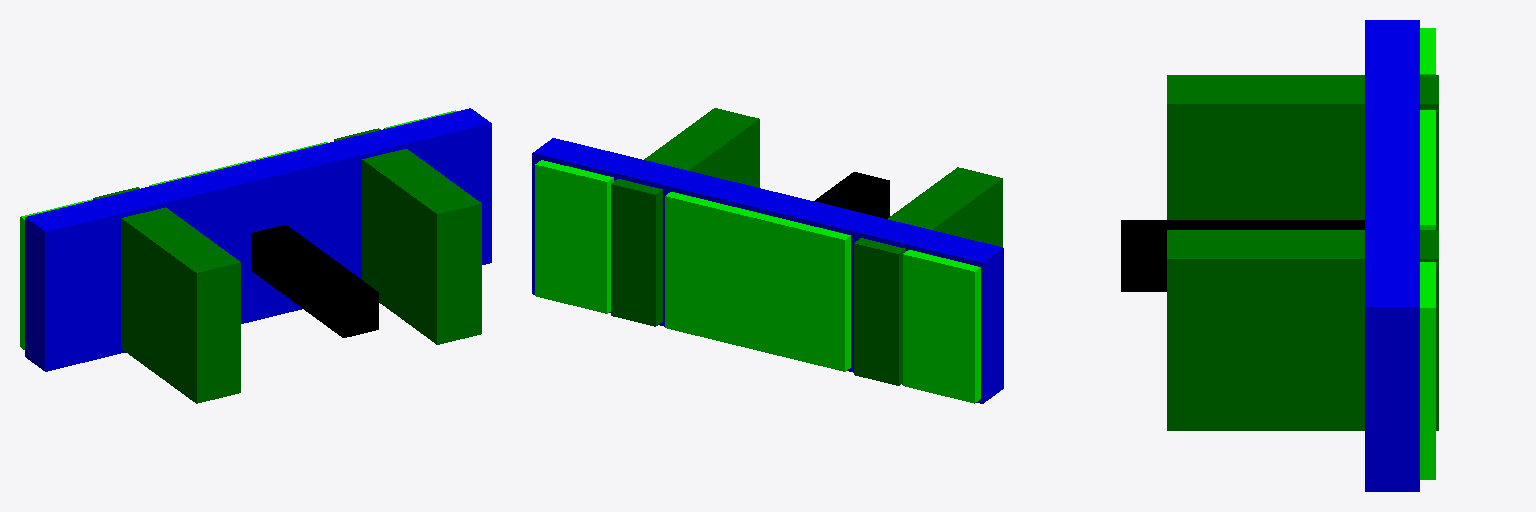
The robot description file, URDF, robot "ur5_robotiq_140":
<?xml version="1.0" ?>
<!-- =================================================================================== -->
<!-- |    This document was autogenerated by xacro from sisbot.xacro                   | -->
<!-- |    EDITING THIS FILE BY HAND IS NOT RECOMMENDED                                 | -->
<!-- =================================================================================== -->
<robot name="ur5_robotiq_140" xmlns:xacro="http://ros.org/wiki/xacro">
  <!--################################################
  ########              arm                    #######
  ####################################################-->

  <link name="base_link">
    <visual>
      <geometry>
        <mesh filename="../meshes/ur5/visual/base.obj"/>
      </geometry>
      <material name="LightGrey">
        <color rgba="0.7 0.7 0.7 1.0"/>
      </material>
    </visual>
    <collision>
      <geometry>
        <mesh filename="../meshes/ur5/collision/base.stl"/>
      </geometry>
    </collision>
    <inertial>
      <mass value="4.0"/>
      <origin rpy="0 0 0" xyz="0.0 0.0 0.0"/>
      <inertia ixx="0.00443333156" ixy="0.0" ixz="0.0" iyy="0.00443333156" iyz="0.0" izz="0.0072"/>
    </inertial>
  </link>

  <joint name="shoulder_pan_joint" type="revolute">
    <parent link="base_link"/>
    <child link="shoulder_link"/>
    <origin rpy="0.0 0.0 0.0" xyz="0.0 0.0 0.089159"/>
    <axis xyz="0 0 1"/>
    <limit effort="150.0" lower="-3.14159265359" upper="3.14159265359" velocity="3.15"/>
    <dynamics damping="0.0" friction="0.0"/>
  </joint>
  <link name="shoulder_link">
    <visual>
      <geometry>
        <mesh filename="../meshes/ur5/visual/shoulder.obj"/>
      </geometry>
      <material name="DarkGray">
        <color rgba="0.5 0.5 0.5 1.0"/>
      </material>
    </visual>
    <collision>
      <geometry>
        <mesh filename="../meshes/ur5/collision/shoulder.stl"/>
      </geometry>
    </collision>
    <inertial>
      <mass value="3.7"/>
      <origin rpy="0 0 0" xyz="0.0 0.0 0.0"/>
      <inertia ixx="0.010267495893" ixy="0.0" ixz="0.0" iyy="0.010267495893" iyz="0.0" izz="0.00666"/>
    </inertial>
  </link>
  <joint name="shoulder_lift_joint" type="revolute">
    <parent link="shoulder_link"/>
    <child link="upper_arm_link"/>
    <origin rpy="0.0 1.57079632679 0.0" xyz="0.0 0.13585 0.0"/>
    <axis xyz="0 1 0"/>
    <limit effort="150.0" lower="-3.14159265359" upper="3.14159265359" velocity="3.15"/>
    <dynamics damping="0.0" friction="0.0"/>
  </joint>
  <link name="upper_arm_link">
    <visual>
      <geometry>
        <mesh filename="../meshes/ur5/visual/upperarm.obj"/>
      </geometry>
      <material name="LightGrey">
        <color rgba="0.7 0.7 0.7 1.0"/>
      </material>
    </visual>
    <collision>
      <geometry>
        <mesh filename="../meshes/ur5/collision/upperarm.stl"/>
      </geometry>
    </collision>
    <inertial>
      <mass value="8.393"/>
      <origin rpy="0 0 0" xyz="0.0 0.0 0.28"/>
      <inertia ixx="0.22689067591" ixy="0.0" ixz="0.0" iyy="0.22689067591" iyz="0.0" izz="0.0151074"/>
    </inertial>
  </link>
  <joint name="elbow_joint" type="revolute">
    <parent link="upper_arm_link"/>
    <child link="forearm_link"/>
    <origin rpy="0.0 0.0 0.0" xyz="0.0 -0.1197 0.425"/>
    <axis xyz="0 1 0"/>
    <limit effort="150.0" lower="-3.14159265359" upper="3.14159265359" velocity="3.15"/>
    <dynamics damping="0.0" friction="0.0"/>
  </joint>
  <link name="forearm_link">
    <visual>
      <geometry>
        <mesh filename="../meshes/ur5/visual/forearm.obj"/>
      </geometry>
      <material name="LightGrey">
        <color rgba="0.7 0.7 0.7 1.0"/>
      </material>
    </visual>
    <collision>
      <geometry>
        <mesh filename="../meshes/ur5/collision/forearm.stl"/>
      </geometry>
    </collision>
    <inertial>
      <mass value="2.275"/>
      <origin rpy="0 0 0" xyz="0.0 0.0 0.25"/>
      <inertia ixx="0.049443313556" ixy="0.0" ixz="0.0" iyy="0.049443313556" iyz="0.0" izz="0.004095"/>
    </inertial>
  </link>
  <joint name="wrist_1_joint" type="revolute">
    <parent link="forearm_link"/>
    <child link="wrist_1_link"/>
    <origin rpy="0.0 1.57079632679 0.0" xyz="0.0 0.0 0.39225"/>
    <axis xyz="0 1 0"/>
    <limit effort="28.0" lower="-3.14159265359" upper="3.14159265359" velocity="3.2"/>
    <dynamics damping="0.0" friction="0.0"/>
  </joint>
  <link name="wrist_1_link">
    <visual>
      <geometry>
        <mesh filename="../meshes/ur5/visual/wrist1.obj"/>
      </geometry>
      <material name="DarkGray">
        <color rgba="0.5 0.5 0.5 1.0"/>
      </material>
    </visual>
    <collision>
      <geometry>
        <mesh filename="../meshes/ur5/collision/wrist1.stl"/>
      </geometry>
    </collision>
    <inertial>
      <mass value="1.219"/>
      <origin rpy="0 0 0" xyz="0.0 0.0 0.0"/>
      <inertia ixx="0.111172755531" ixy="0.0" ixz="0.0" iyy="0.111172755531" iyz="0.0" izz="0.21942"/>
    </inertial>
  </link>
  <joint name="wrist_2_joint" type="revolute">
    <parent link="wrist_1_link"/>
    <child link="wrist_2_link"/>
    <origin rpy="0.0 0.0 0.0" xyz="0.0 0.093 0.0"/>
    <axis xyz="0 0 1"/>
    <limit effort="28.0" lower="-3.14159265359" upper="3.14159265359" velocity="3.2"/>
    <dynamics damping="0.0" friction="0.0"/>
  </joint>
  <link name="wrist_2_link">
    <visual>
      <geometry>
        <mesh filename="../meshes/ur5/visual/wrist2.obj"/>
      </geometry>
      <material name="DarkGray">
        <color rgba="0.5 0.5 0.5 1.0"/>
      </material>
    </visual>
    <collision>
      <geometry>
        <mesh filename="../meshes/ur5/collision/wrist2.stl"/>
      </geometry>
    </collision>
    <inertial>
      <mass value="1.219"/>
      <origin rpy="0 0 0" xyz="0.0 0.0 0.0"/>
      <inertia ixx="0.111172755531" ixy="0.0" ixz="0.0" iyy="0.111172755531" iyz="0.0" izz="0.21942"/>
    </inertial>
  </link>
  <joint name="wrist_3_joint" type="revolute">
    <parent link="wrist_2_link"/>
    <child link="wrist_3_link"/>
    <origin rpy="0.0 0.0 0.0" xyz="0.0 0.0 0.09465"/>
    <axis xyz="0 1 0"/>
    <limit effort="28.0" lower="-3.14159265359" upper="3.14159265359" velocity="3.2"/>
    <dynamics damping="0.0" friction="0.0"/>
  </joint>
  <link name="wrist_3_link">
    <visual>
      <geometry>
        <mesh filename="../meshes/ur5/visual/wrist3.obj"/>
      </geometry>
      <material name="LightGrey">
        <color rgba="0.7 0.7 0.7 1.0"/>
      </material>
    </visual>
    <collision>
      <geometry>
        <mesh filename="../meshes/ur5/collision/wrist3.stl"/>
      </geometry>
    </collision>
    <inertial>
      <mass value="0.1879"/>
      <origin rpy="0 0 0" xyz="0.0 0.0 0.0"/>
      <inertia ixx="0.0171364731454" ixy="0.0" ixz="0.0" iyy="0.0171364731454" iyz="0.0" izz="0.033822"/>
    </inertial>
  </link>
  <joint name="ee_fixed_joint" type="fixed">
    <parent link="wrist_3_link"/>
    <child link="ee_link"/>
    <origin rpy="0.0 0.0 1.57079632679" xyz="0.0 0.0823 0.0"/>
  </joint>
  <link name="ee_link">
    <collision>
      <geometry>
        <box size="0.01 0.01 0.01"/>
      </geometry>
      <origin rpy="0 0 0" xyz="-0.01 0 0"/>
    </collision>
  </link>

 <joint name="suction_gripper_base" type="fixed">
    <!-- <origin rpy="0 0 3.14159265359" xyz="0 0 0.007"/> -->
    <origin rpy="0 0 0" xyz="0.0 0 0.0"/>    
    <parent link="ee_link"/>
    <child link="gripper_base"/>
  </joint>
  <link name="gripper_base">
    <inertial>
      <origin rpy="0 0 0" xyz="0 0 0"/>
      <mass value="0.1"/>
      <inertia ixx="0.0001" ixy="0" ixz="0" iyy="0.0001" iyz="0" izz="0.0001"/>
    </inertial>
    <visual>
      <origin xyz="0 0 0"/>
      <geometry>
        <box size="0.1 0.02 0.02" />
      </geometry>
      <material name="black">
        <color rgba="0 0 0 1.0"/>
      </material>
    </visual>
    <collision>
      <origin xyz="0 0 0"/>
      <geometry>
        <box size="0.1 0.02 0.02" />
      </geometry>
    </collision>
  </link>
<joint name="suction_gripper_surf" type="fixed">
    <!-- <origin rpy="0 0 3.14159265359" xyz="0 0 0.007"/> -->
    <origin rpy="0 0 0" xyz="0.05 0.0 0.0"/>    
    <parent link="gripper_base"/>
    <child link="gripper_surf"/>
  </joint>
  <link name="gripper_surf">
    <inertial>
      <origin rpy="0 0 0" xyz="0 0 0"/>
      <mass value="0.1"/>
      <inertia ixx="0.0001" ixy="0" ixz="0" iyy="0.0001" iyz="0" izz="0.0001"/>
    </inertial>
    <visual>
      <origin xyz="0 0 0"/>
      <geometry>
        <box size="0.02 0.25 0.075" />
      </geometry>
      <material name="blue">
        <color rgba="0 0 1 1.0"/>
      </material>
    </visual>
    <collision>
      <origin xyz="0 0 0"/>
      <geometry>
        <box size="0.02 0.25 0.075" />
      </geometry>
    </collision>
  </link>

<joint name="suction_gripper_tile1" type="fixed">
    <!-- <origin rpy="0 0 3.14159265359" xyz="0 0 0.007"/> -->
    <origin rpy="0 0 0" xyz="0.011 0.1 0.0"/>    
    <parent link="gripper_surf"/>
    <child link="gripper_tile1"/>
  </joint>
  <link name="gripper_tile1">
    <inertial>
      <origin rpy="0 0 0" xyz="0 0 0"/>
      <mass value="0.05"/>
      <inertia ixx="0.0001" ixy="0" ixz="0" iyy="0.0001" iyz="0" izz="0.0001"/>
    </inertial>
    <visual>
      <origin xyz="0 0 0"/>
      <geometry>
        <box size="0.01 0.04 0.07" />
      </geometry>
      <material name="green">
        <color rgba="0 1 0 1.0"/>
      </material>
    </visual>
    <collision>
      <origin xyz="0 0 0"/>
      <geometry>
        <box size="0.01 0.04 0.07" />
      </geometry>
    </collision>
  </link>
  <joint name="suction_gripper_tile2" type="prismatic">
    <!-- <origin rpy="0 0 3.14159265359" xyz="0 0 0.007"/> -->
    <origin rpy="0 0 0" xyz="-0.033 0.065 0.0"/>    
    <limit lower="0.0" upper="0.05"/>
    <parent link="gripper_surf"/>
    <child link="gripper_tile2"/>
  </joint>
  <link name="gripper_tile2">
    <inertial>
      <origin rpy="0 0 0" xyz="0 0 0"/>
      <mass value="0.05"/>
      <inertia ixx="0.0001" ixy="0" ixz="0" iyy="0.0001" iyz="0" izz="0.0001"/>
    </inertial>
    <visual>
      <origin xyz="0 0 0"/>
      <geometry>
        <box size="0.1 0.025 0.07" />
      </geometry>
      <material name="green2">
        <color rgba="0 0.5 0 1.0"/>
      </material>
    </visual>
    <collision>
      <origin xyz="0 0 0"/>
      <geometry>
        <box size="0.1 0.025 0.07" />
      </geometry>
    </collision>
  </link>
  <joint name="suction_gripper_tile3" type="fixed">
    <!-- <origin rpy="0 0 3.14159265359" xyz="0 0 0.007"/> -->
    <origin rpy="0 0 0" xyz="0.011 -0.002 0.0"/>    
    <parent link="gripper_surf"/>
    <child link="gripper_tile3"/>
  </joint>
  <link name="gripper_tile3">
    <inertial>
      <origin rpy="0 0 0" xyz="0 0 0"/>
      <mass value="0.05"/>
      <inertia ixx="0.0001" ixy="0" ixz="0" iyy="0.0001" iyz="0" izz="0.0001"/>
    </inertial>
    <visual>
      <origin xyz="0 0 0"/>
      <geometry>
        <box size="0.01 0.1 0.07" />
      </geometry>
      <material name="green">
        <color rgba="0 1 0 1.0"/>
      </material>
    </visual>
    <collision>
      <origin xyz="0 0 0"/>
      <geometry>
        <box size="0.01 0.1 0.07" />
      </geometry>
    </collision>
  </link>
  <joint name="suction_gripper_tile4" type="prismatic">
    <!-- <origin rpy="0 0 3.14159265359" xyz="0 0 0.007"/> -->
    <origin rpy="0 0 0" xyz="-0.033 -0.07 0.0"/>    
    <limit lower="0.0" upper="0.05"/>
    <parent link="gripper_surf"/>
    <child link="gripper_tile4"/>
  </joint>
  <link name="gripper_tile4">
    <inertial>
      <origin rpy="0 0 0" xyz="0 0 0"/>
      <mass value="0.05"/>
      <inertia ixx="0.0001" ixy="0" ixz="0" iyy="0.0001" iyz="0" izz="0.0001"/>
    </inertial>
    <visual>
      <origin xyz="0 0 0"/>
      <geometry>
        <box size="0.1 0.025 0.07" />
      </geometry>
      <material name="green2">
        <color rgba="0 0.5 0 1.0"/>
      </material>
    </visual>
    <collision>
      <origin xyz="0 0 0"/>
      <geometry>
        <box size="0.1 0.025 0.07" />
      </geometry>
    </collision>
  </link>

    <joint name="suction_gripper_tile5" type="fixed">
    <!-- <origin rpy="0 0 3.14159265359" xyz="0 0 0.007"/> -->
    <origin rpy="0 0 0" xyz="0.011 -0.104 0.0"/>    
    <parent link="gripper_surf"/>
    <child link="gripper_tile5"/>
  </joint>
  <link name="gripper_tile5">
    <inertial>
      <origin rpy="0 0 0" xyz="0 0 0"/>
      <mass value="0.05"/>
      <inertia ixx="0.0001" ixy="0" ixz="0" iyy="0.0001" iyz="0" izz="0.0001"/>
    </inertial>
    <visual>
      <origin xyz="0 0 0"/>
      <geometry>
        <box size="0.01 0.04 0.07" />
      </geometry>
      <material name="green">
        <color rgba="0 1 0 1.0"/>
      </material>
    </visual>
    <collision>
      <origin xyz="0 0 0"/>
      <geometry>
        <box size="0.01 0.04 0.07" />
      </geometry>
    </collision>
  </link>



</robot>

--- Render facts (derived) ---
3 views of the same robot in one strip: view 1: azimuth 30°, elevation 25°; view 2: azimuth 150°, elevation 25°; view 3: azimuth 270°, elevation 25° (orthographic).
Model ur5_robotiq_140 with 15 links and 14 joints (6 revolute, 2 prismatic, 6 fixed), rooted at base_link, posed every joint at zero.
Links seen in each view (by area): view 1: gripper_surf, gripper_tile4, gripper_tile2, gripper_base, gripper_tile5; view 2: gripper_tile3, gripper_surf, gripper_tile2, gripper_tile4, gripper_tile5, gripper_tile1, gripper_base; view 3: gripper_tile2, gripper_tile4, gripper_surf, gripper_base, gripper_tile1, gripper_tile3, gripper_tile5.
Boxes of the visible links, x1,y1,x2,y2 form: gripper_surf: (25, 108, 491, 371); gripper_tile4: (93, 187, 240, 403); gripper_tile2: (334, 128, 481, 344); gripper_base: (251, 225, 378, 337); gripper_tile5: (20, 199, 91, 349); gripper_tile3: (665, 192, 850, 371); gripper_surf: (532, 138, 1003, 403); gripper_tile2: (611, 108, 759, 326); gripper_tile4: (854, 167, 1002, 385); gripper_tile5: (903, 250, 980, 403); gripper_tile1: (535, 160, 613, 313); gripper_base: (814, 172, 889, 218); gripper_tile2: (1167, 230, 1438, 430); gripper_tile4: (1167, 75, 1438, 229); gripper_surf: (1365, 20, 1419, 491); gripper_base: (1121, 220, 1364, 291); gripper_tile1: (1420, 262, 1435, 479); gripper_tile3: (1420, 110, 1435, 229); gripper_tile5: (1420, 28, 1435, 74).
Bounding box of the posed robot: 0.25 × 0.117 × 0.075 m (x, y, z).
Meshes: 7 distinct files referenced, 0 mesh visuals loaded (none loaded); not drawn: 7 (reference not matched to a file when rendering).